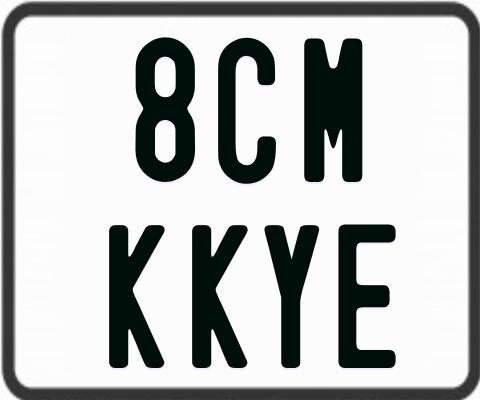8: (135, 36, 198, 184)
C: (215, 38, 274, 186)
E: (338, 223, 401, 368)
K: (108, 224, 170, 367), (189, 222, 249, 368)
M: (302, 37, 361, 183)
Y: (265, 222, 320, 370)
